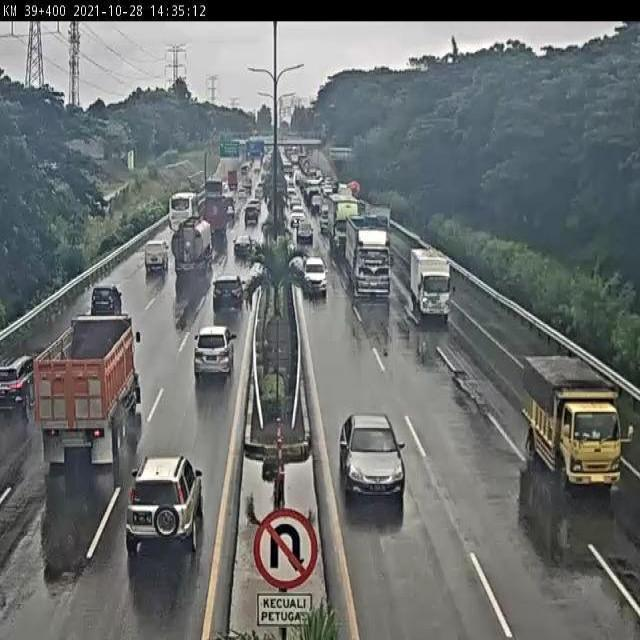car: (124, 453, 204, 555), (337, 410, 409, 510), (190, 323, 239, 383), (0, 352, 39, 424), (210, 273, 246, 315), (301, 252, 330, 303), (90, 285, 123, 316), (143, 239, 171, 275), (231, 232, 256, 259), (295, 219, 316, 247), (289, 203, 307, 228), (319, 203, 331, 236), (243, 205, 260, 227), (309, 193, 324, 215), (247, 199, 263, 215), (237, 188, 248, 200)
truck: (515, 349, 640, 499), (31, 311, 144, 476), (344, 212, 392, 299), (408, 244, 458, 325), (170, 215, 218, 277), (327, 192, 362, 256), (167, 191, 201, 233)
